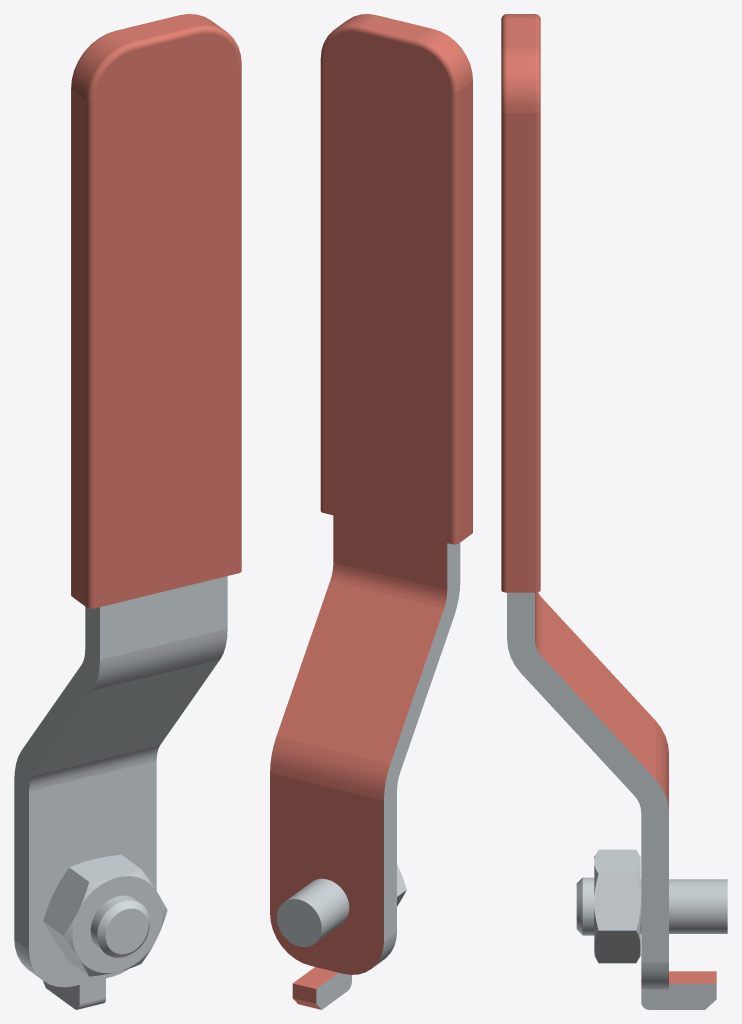
File: STEM.glb
3 views of the same model, side by side, from view 1: azimuth 30°, elevation 25°; view 2: azimuth 150°, elevation 25°; view 3: azimuth 270°, elevation 25° (orthographic). The views are drawn at different scales.
Visible parts, largest first — view 1: STEM/0001_Freek_rotating_handle_Body1__, STEM/0000_Freek_rotating_handle_Body1_Stainless, STEM/0002_Freek_rotating_handle_Body2_, STEM/0003_Freek_rotating_handle_Body5_; view 2: STEM/0001_Freek_rotating_handle_Body1__, STEM/0000_Freek_rotating_handle_Body1_Stainless, STEM/0004_teaching_extended_rotating_spindle; view 3: STEM/0001_Freek_rotating_handle_Body1__, STEM/0000_Freek_rotating_handle_Body1_Stainless, STEM/0002_Freek_rotating_handle_Body2_, STEM/0004_teaching_extended_rotating_spindle, STEM/0003_Freek_rotating_handle_Body5_.
Boxes of the visible parts, x1=… form: STEM/0001_Freek_rotating_handle_Body1__: x1=71, y1=14, x2=241, y2=608; STEM/0000_Freek_rotating_handle_Body1_Stainless: x1=14, y1=576, x2=227, y2=1009; STEM/0002_Freek_rotating_handle_Body2_: x1=43, y1=854, x2=167, y2=976; STEM/0003_Freek_rotating_handle_Body5_: x1=90, y1=895, x2=150, y2=957; STEM/0001_Freek_rotating_handle_Body1__: x1=270, y1=14, x2=472, y2=1009; STEM/0000_Freek_rotating_handle_Body1_Stainless: x1=316, y1=543, x2=460, y2=1009; STEM/0004_teaching_extended_rotating_spindle: x1=277, y1=878, x2=349, y2=946; STEM/0001_Freek_rotating_handle_Body1__: x1=501, y1=14, x2=716, y2=983; STEM/0000_Freek_rotating_handle_Body1_Stainless: x1=507, y1=592, x2=716, y2=1009; STEM/0002_Freek_rotating_handle_Body2_: x1=594, y1=849, x2=640, y2=963; STEM/0004_teaching_extended_rotating_spindle: x1=640, y1=879, x2=727, y2=933; STEM/0003_Freek_rotating_handle_Body5_: x1=576, y1=877, x2=594, y2=935.
Size of the model in its own units: 0.0102 by 0.0646 by 0.0137.
